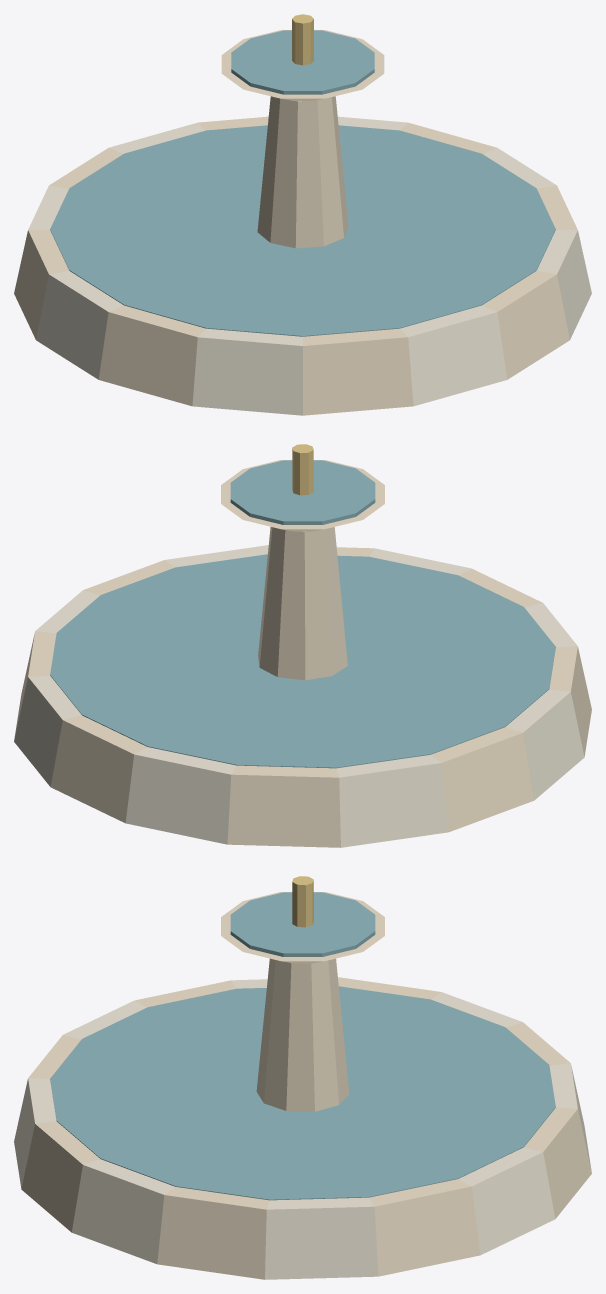
The model's file is PotteryCourtFountain.glb.
3 renders of one model, top to bottom at view 1: azimuth 30°, elevation 25°; view 2: azimuth 150°, elevation 25°; view 3: azimuth 270°, elevation 25°, orthographic.
Visible parts, largest first — view 1: PotteryCourtFountain; view 2: PotteryCourtFountain; view 3: PotteryCourtFountain.
Part boxes in pixels (x1,y1,x2,y2): PotteryCourtFountain: [14, 14, 591, 415]; PotteryCourtFountain: [14, 444, 591, 847]; PotteryCourtFountain: [14, 876, 591, 1279].
Bounding box in the file's own units: 2.86 × 1.51 × 2.86.
